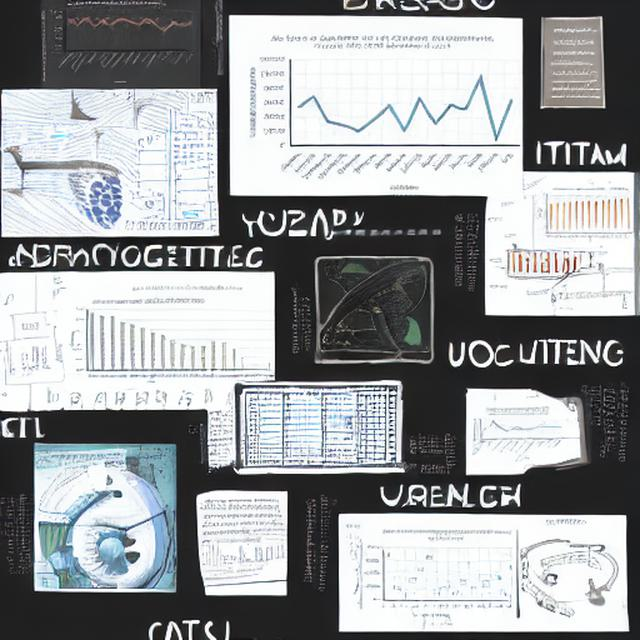Graph: (243, 29, 522, 193), (357, 525, 515, 619), (38, 0, 202, 89), (66, 296, 222, 387), (535, 186, 633, 243), (471, 406, 566, 461), (211, 536, 270, 572)
